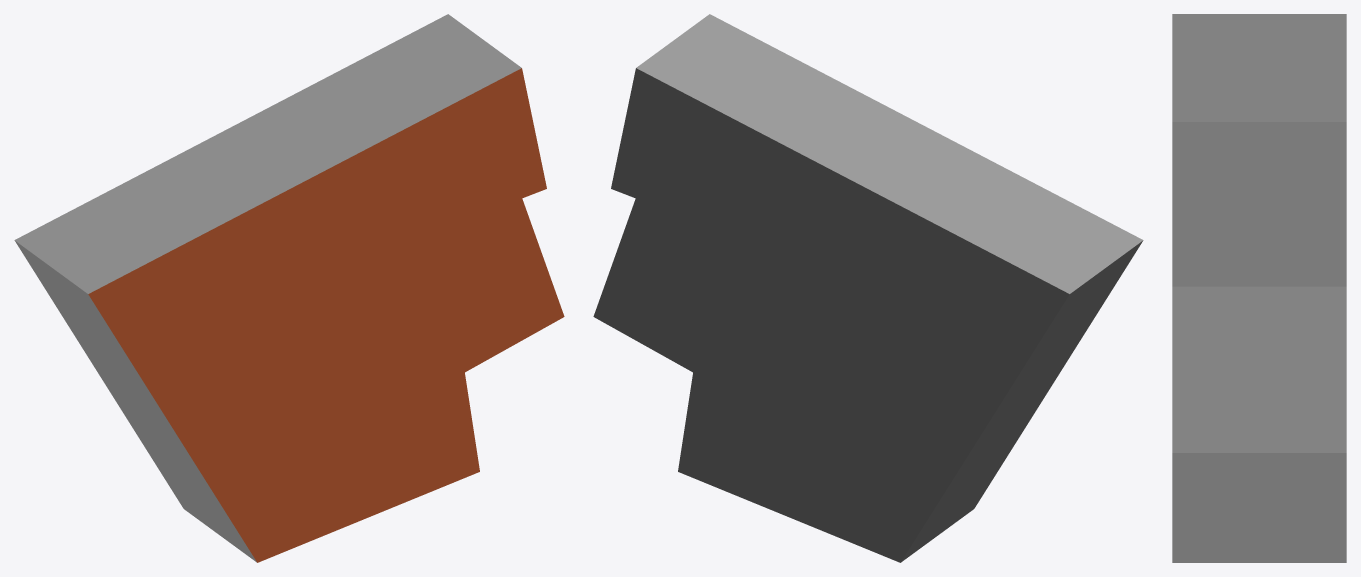
The model's file is construction_5606_assumed_A_Casa_h6m.obj.
3 views of the same model, side by side, from view 1: azimuth 30°, elevation 25°; view 2: azimuth 150°, elevation 25°; view 3: azimuth 270°, elevation 25° (orthographic). The views are drawn at different scales.
Parts seen in each view (by area): view 1: construction_5606_assumed_A_Casa; view 2: construction_5606_assumed_A_Casa; view 3: construction_5606_assumed_A_Casa.
Part boxes in pixels (<box>): construction_5606_assumed_A_Casa: <box>14,14,564,562</box>; construction_5606_assumed_A_Casa: <box>593,14,1143,562</box>; construction_5606_assumed_A_Casa: <box>1172,14,1346,562</box>.
Size of the model in its own units: 22.36 by 19.3 by 6.
